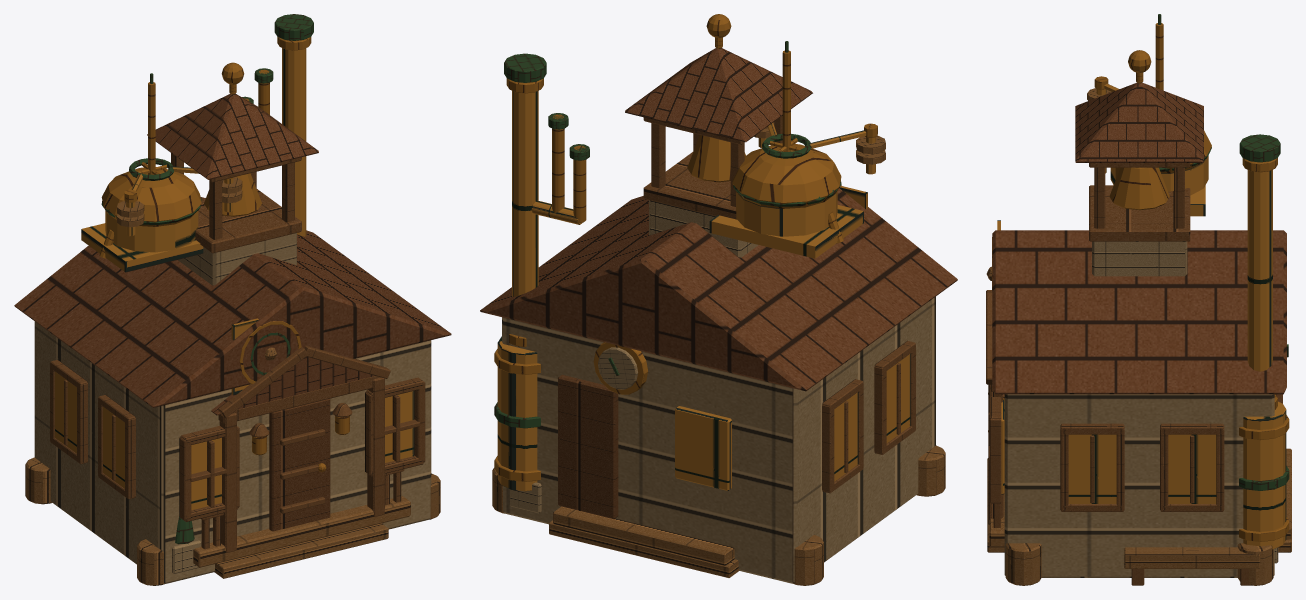
Rendered from schoolhouse.e3.glb.
3 views of the same model, side by side, from view 1: azimuth 30°, elevation 25°; view 2: azimuth 150°, elevation 25°; view 3: azimuth 270°, elevation 25° (orthographic). The views are drawn at different scales.
Parts seen in each view (by area): view 1: SchoolhouseE3; view 2: SchoolhouseE3; view 3: SchoolhouseE3.
Part boxes in pixels (box(x1,y1,x2,y2)): SchoolhouseE3: box(14, 14, 451, 585); SchoolhouseE3: box(480, 14, 957, 585); SchoolhouseE3: box(986, 14, 1291, 585).
Bounding box in the file's own units: 3.96 × 5.6 × 3.38.
Materials: 1 (1 with a texture image).
